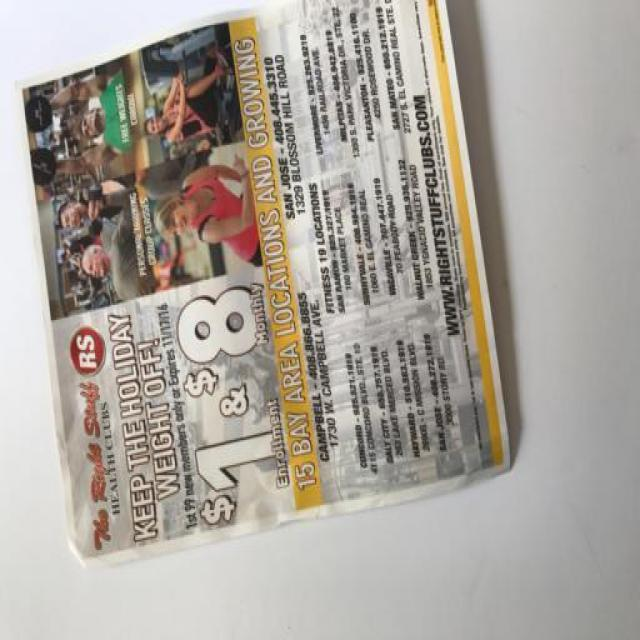paper: (27, 8, 531, 562)
